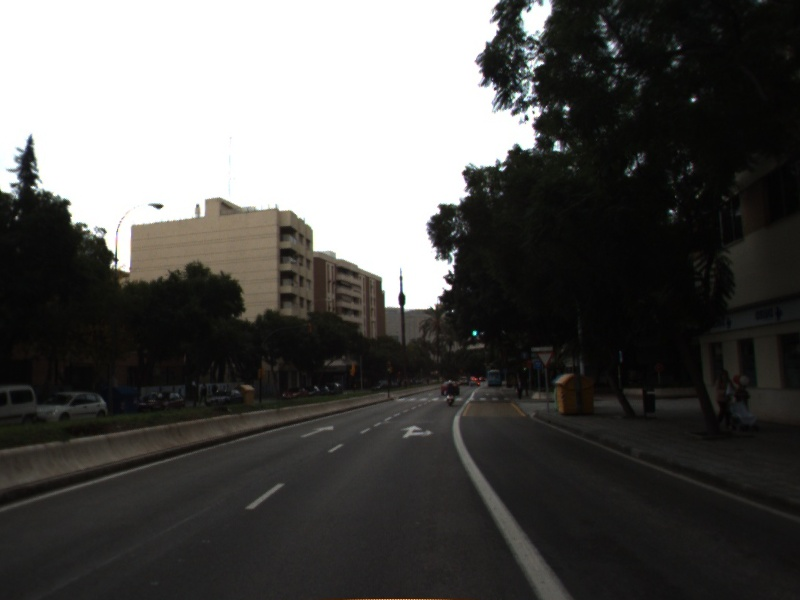STRAIGHT: (298, 423, 336, 439)
STRAIGHT_RIGHT: (398, 423, 436, 440)
